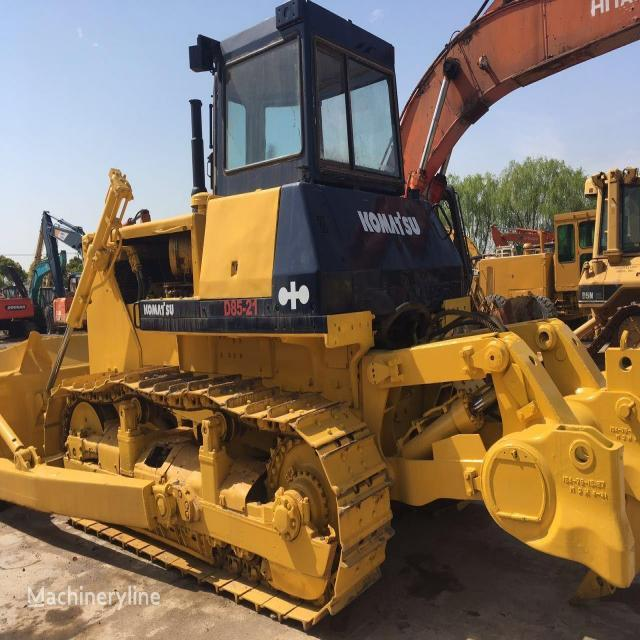Bulldozer: (9, 10, 639, 635)
